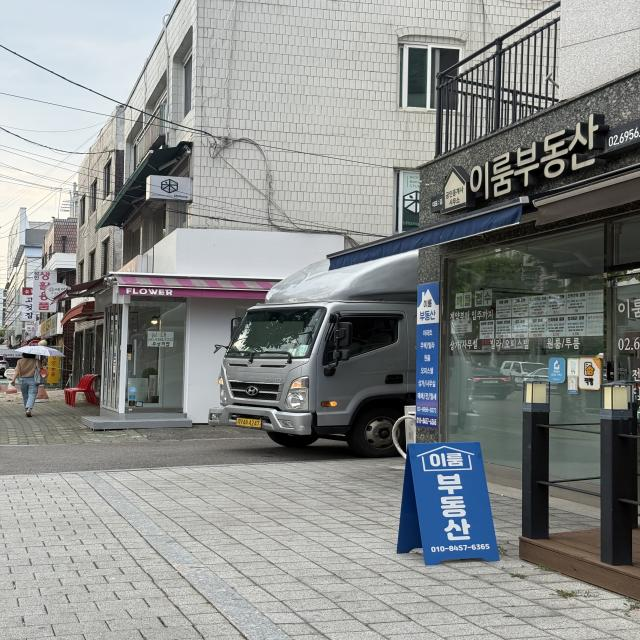car: (213, 218, 630, 460)
